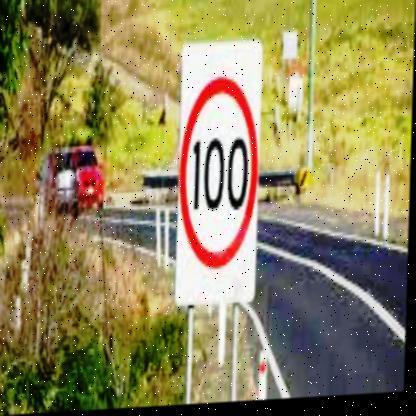Speed Limit -100-: (179, 75, 261, 273)
